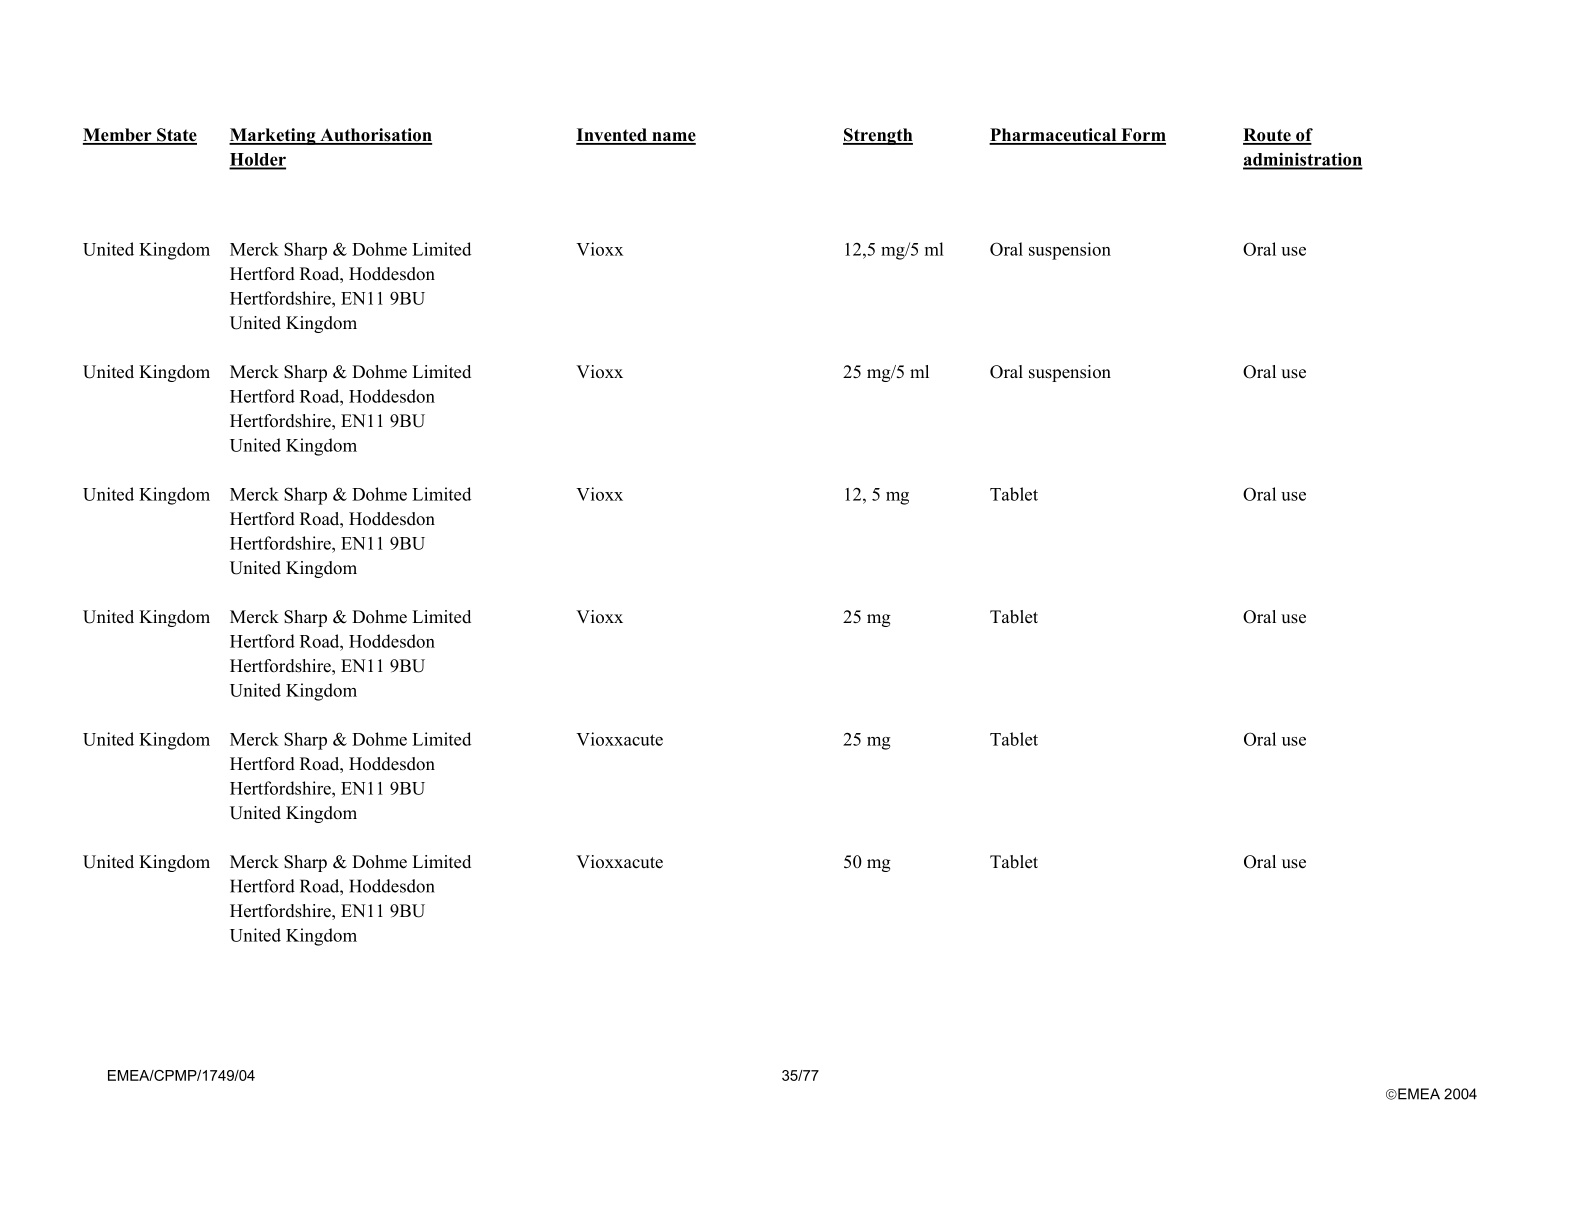nolines: (78, 120, 1367, 948)
